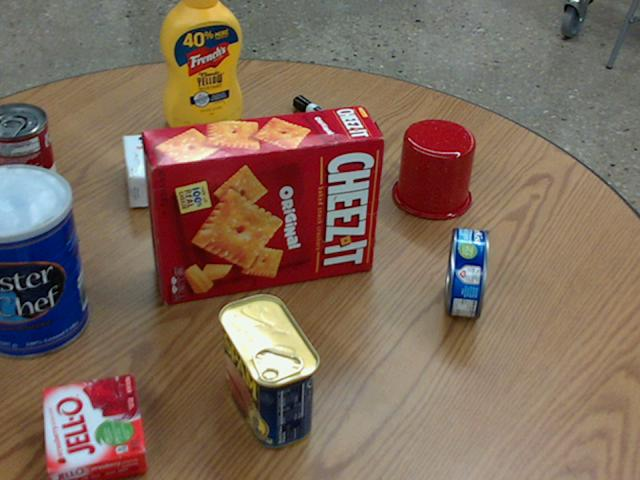cracker_box: (143, 106, 383, 302)
gelatin_box: (41, 373, 144, 479)
large_marker: (294, 94, 363, 144)
master_chef_can: (0, 165, 88, 358)
mug: (390, 119, 474, 219)
mustard_bottle: (161, 0, 241, 129)
potted_meat_can: (217, 294, 316, 447)
sugar_box: (122, 124, 286, 206)
tomato_soup_can: (0, 102, 59, 215)
tuna_fish_can: (444, 228, 488, 317)
